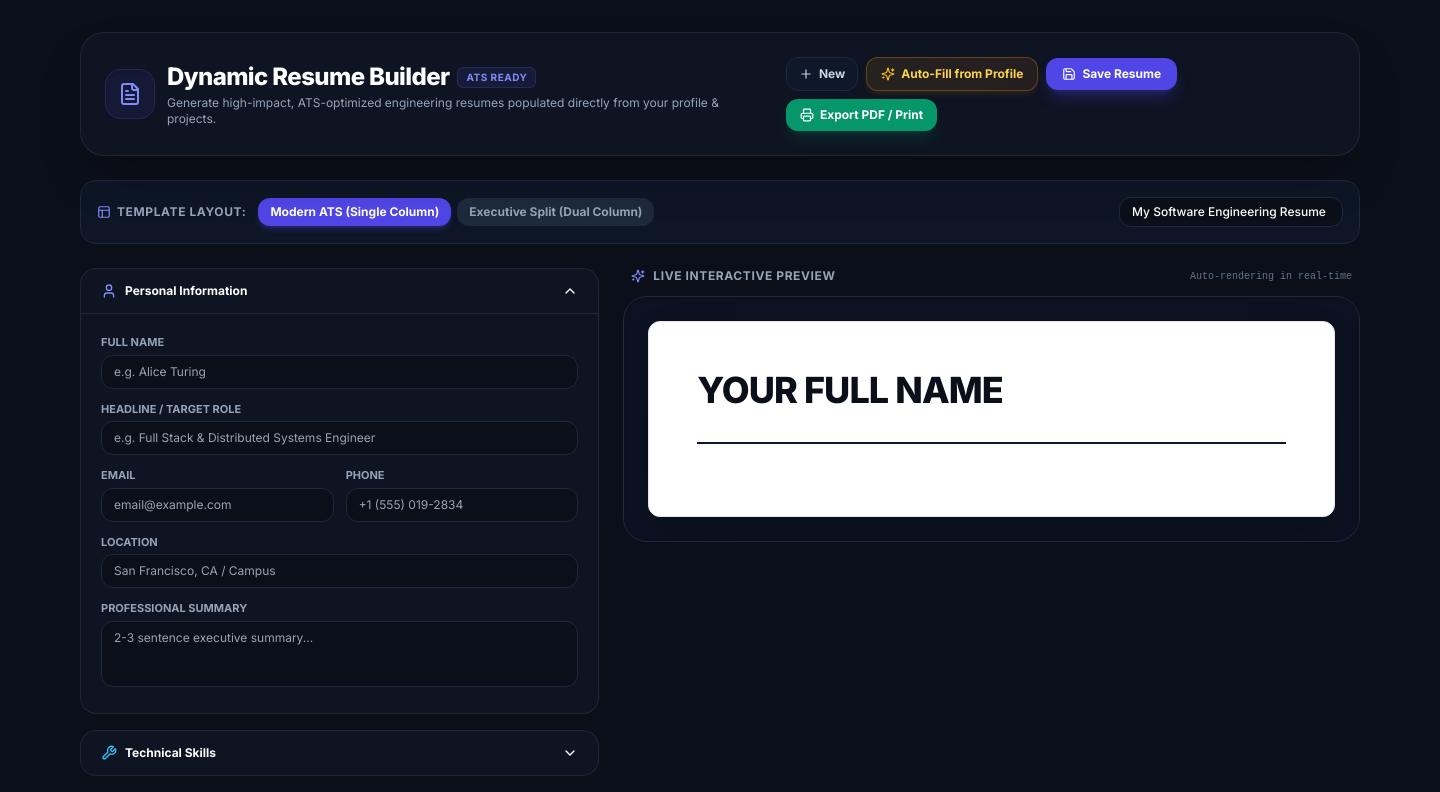
it: Dynamic Resume Builder Module (Level 9) › imports profile & project data when Auto-Fill button is clicked
The image size is (1440, 792).
Click the button "Auto-Fill from Profile" at (952, 74), box [866,57,1038,91]
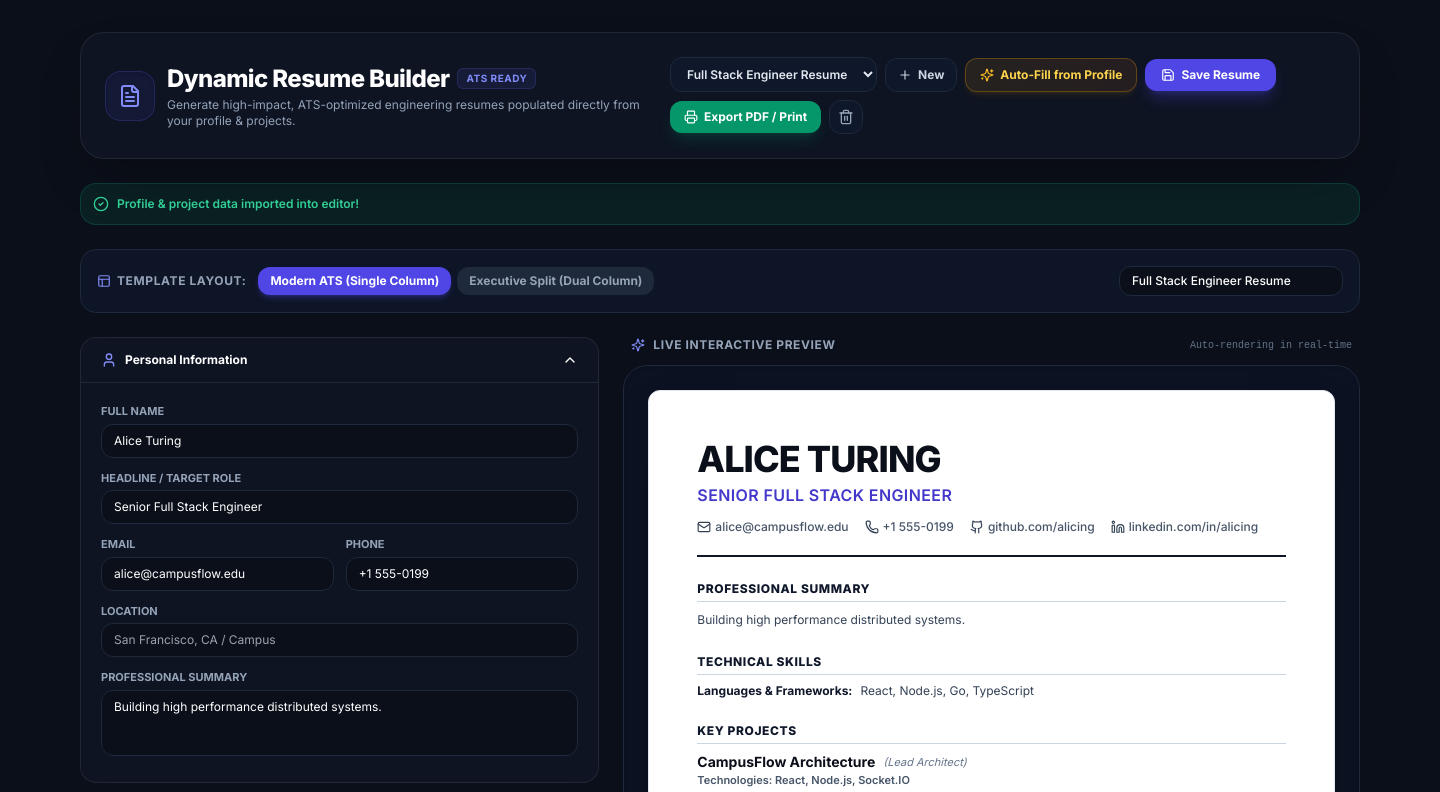
Expected: the text "Profile & project data imported into editor!" is shown, [117,196,359,212]
